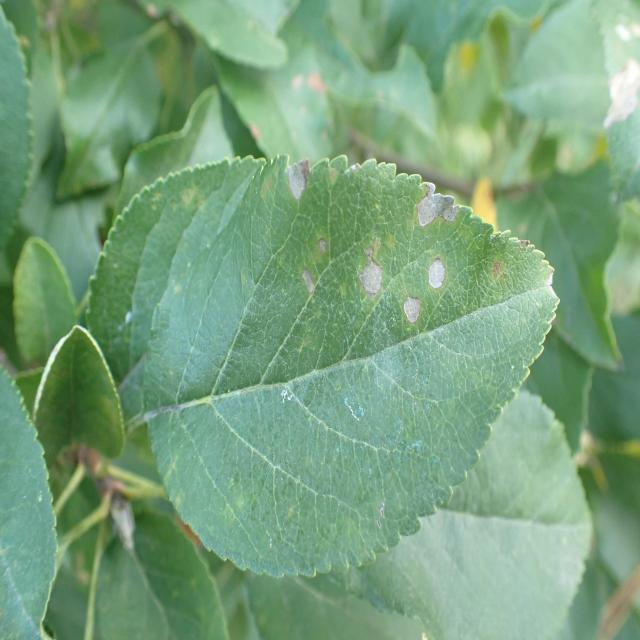frog-eye-leaf-spot: (116, 153, 560, 578)
